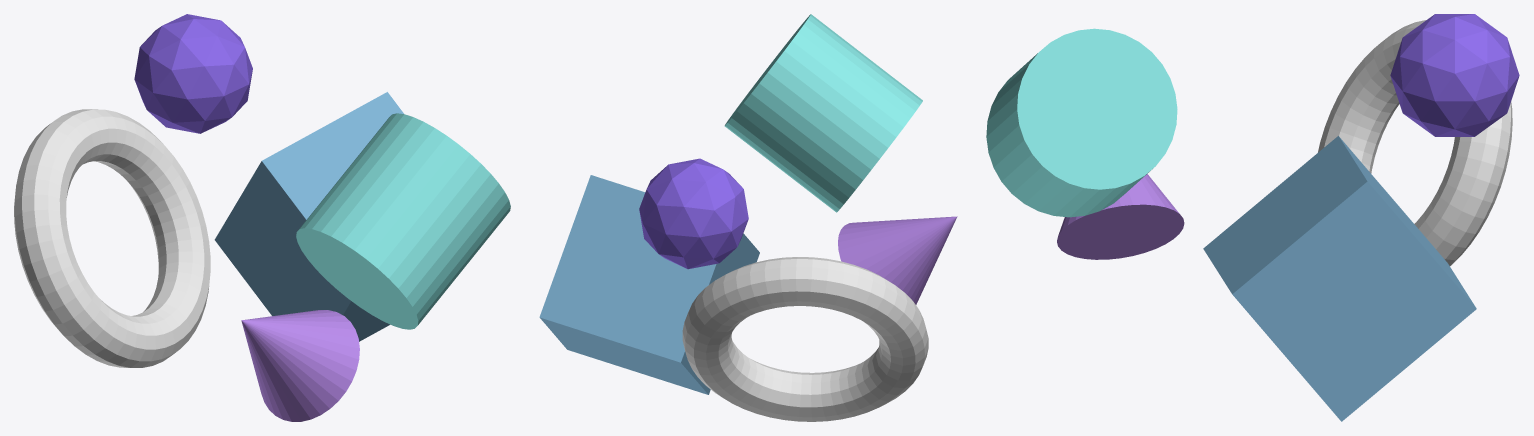
3 views of the same model, side by side, from view 1: azimuth 30°, elevation 25°; view 2: azimuth 150°, elevation 25°; view 3: azimuth 270°, elevation 25° (orthographic). The views are drawn at different scales.
Parts seen in each view (by area): view 1: Torus, Cylinder, Cube, Icosphere, Cone; view 2: Torus, Cube, Cylinder, Icosphere, Cone; view 3: Cube, Cylinder, Torus, Icosphere, Cone.
Part boxes in pixels (x1=…): Torus: x1=14, y1=109, x2=210, y2=367; Cylinder: x1=296, y1=113, x2=510, y2=329; Cube: x1=214, y1=92, x2=403, y2=341; Icosphere: x1=134, y1=14, x2=252, y2=133; Cone: x1=241, y1=310, x2=359, y2=421; Torus: x1=682, y1=257, x2=928, y2=421; Cube: x1=539, y1=175, x2=759, y2=394; Cylinder: x1=724, y1=14, x2=922, y2=212; Icosphere: x1=639, y1=158, x2=748, y2=269; Cone: x1=838, y1=216, x2=957, y2=304; Cube: x1=1203, y1=136, x2=1476, y2=421; Cylinder: x1=986, y1=28, x2=1177, y2=217; Torus: x1=1318, y1=20, x2=1512, y2=265; Icosphere: x1=1390, y1=14, x2=1519, y2=136; Cone: x1=1057, y1=174, x2=1184, y2=259.
Bounding box in the file's own units: 7.59 × 5.93 × 8.25.
